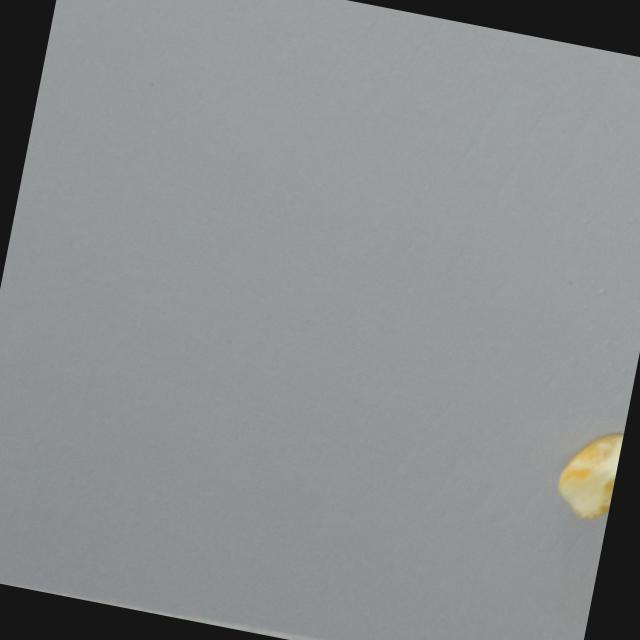pelicula: (547, 420, 624, 528)
